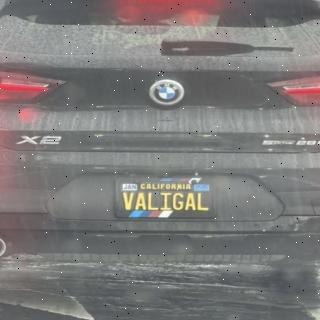license: (114, 179, 219, 220)
